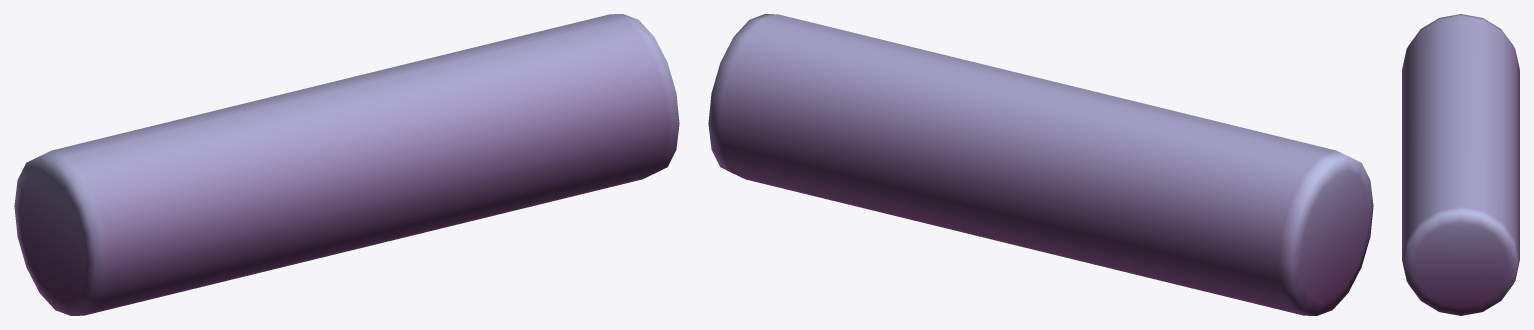
The model's file is Cilinder.fbx.
3 views of the same model, side by side, from view 1: azimuth 30°, elevation 25°; view 2: azimuth 150°, elevation 25°; view 3: azimuth 270°, elevation 25° (orthographic). The views are drawn at different scales.
Parts seen in each view (by area): view 1: Cylinder; view 2: Cylinder; view 3: Cylinder.
Boxes of the visible parts, <box> form: Cylinder: <box>14,14,679,315</box>; Cylinder: <box>708,14,1373,315</box>; Cylinder: <box>1402,14,1519,315</box>.
Bounding box in the file's own units: 460 × 114 × 114.
